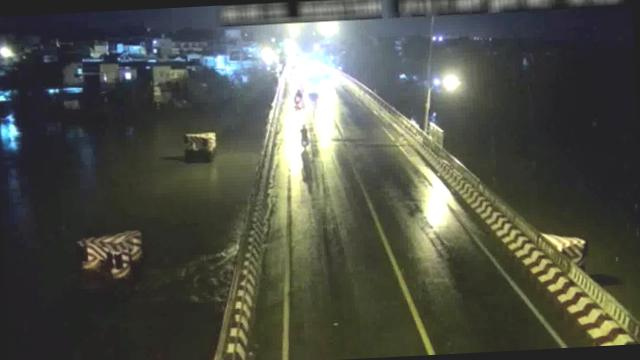Bike: (296, 122, 310, 152), (291, 86, 304, 108)
